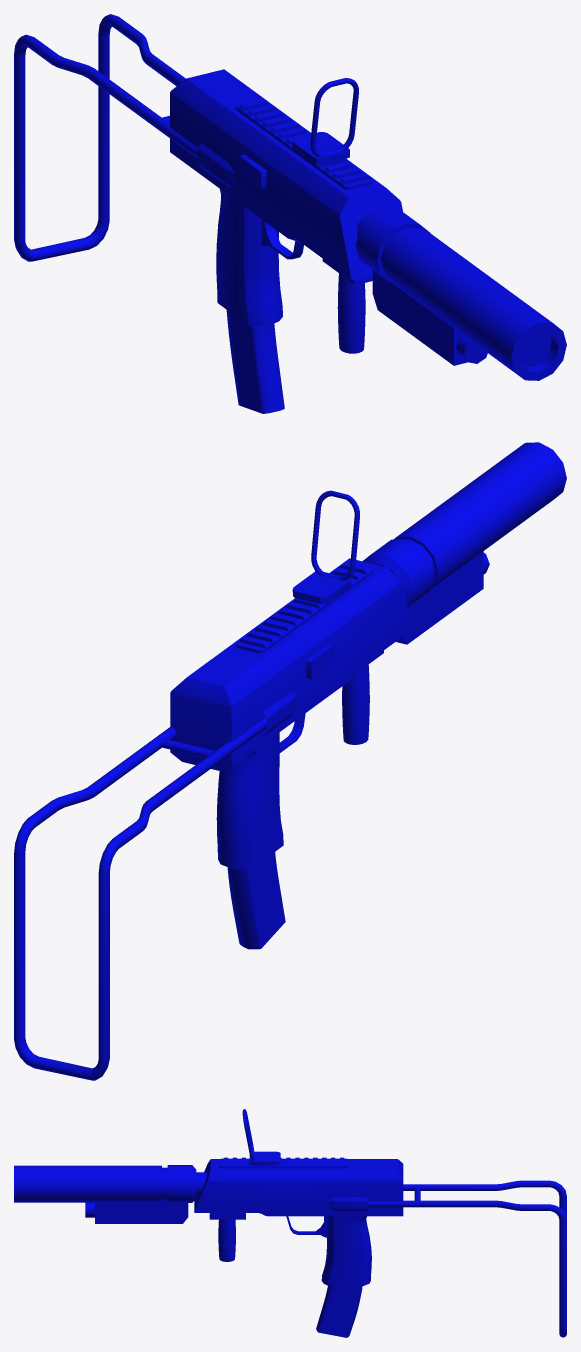
Rendered from Smg.FBX.
The picture shows the model from 3 angles, top to bottom: view 1: azimuth 30°, elevation 25°; view 2: azimuth 150°, elevation 25°; view 3: azimuth 270°, elevation 25°; orthographic projection. The views are drawn at different scales.
Visible parts, largest first — view 1: SMG_Low; view 2: SMG_Low; view 3: SMG_Low.
Part boxes in pixels (bbox=[...]): SMG_Low: bbox=[14, 14, 566, 413]; SMG_Low: bbox=[14, 442, 566, 1080]; SMG_Low: bbox=[14, 1109, 566, 1337].
Size of the model in its own units: 2.96 by 11.72 by 26.23.
